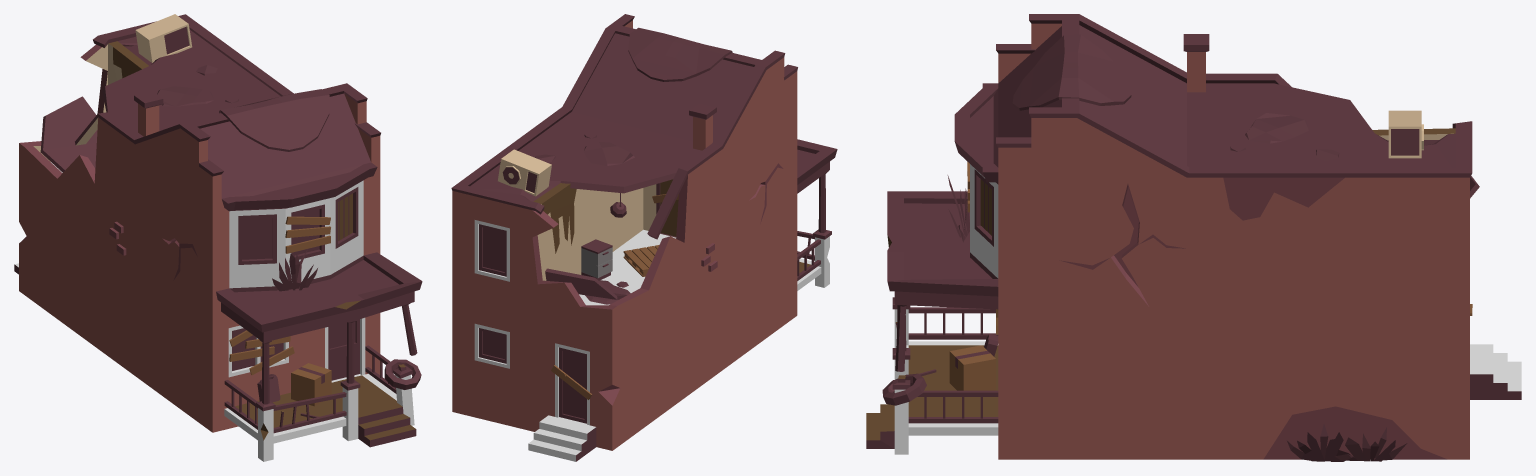
File: building-house-block-old-apocalypse.fbx
3 renders of one model, left to right at view 1: azimuth 30°, elevation 25°; view 2: azimuth 150°, elevation 25°; view 3: azimuth 270°, elevation 25°, orthographic. The views are drawn at different scales.
Parts seen in each view (by area): view 1: building-house-block-old-apocalypse-main, building-house-block-old-apocalypse-props; view 2: building-house-block-old-apocalypse-main, building-house-block-old-apocalypse-props; view 3: building-house-block-old-apocalypse-main, building-house-block-old-apocalypse-props.
Boxes of the visible parts, x1=… form: building-house-block-old-apocalypse-main: x1=14, y1=14, x2=422, y2=461; building-house-block-old-apocalypse-props: x1=157, y1=65, x2=421, y2=406; building-house-block-old-apocalypse-main: x1=451, y1=14, x2=837, y2=461; building-house-block-old-apocalypse-props: x1=535, y1=27, x2=732, y2=399; building-house-block-old-apocalypse-main: x1=866, y1=14, x2=1521, y2=459; building-house-block-old-apocalypse-props: x1=882, y1=34, x2=1472, y2=461.
Bounding box in the file's own units: 5.56 × 8.24 × 13.9.
